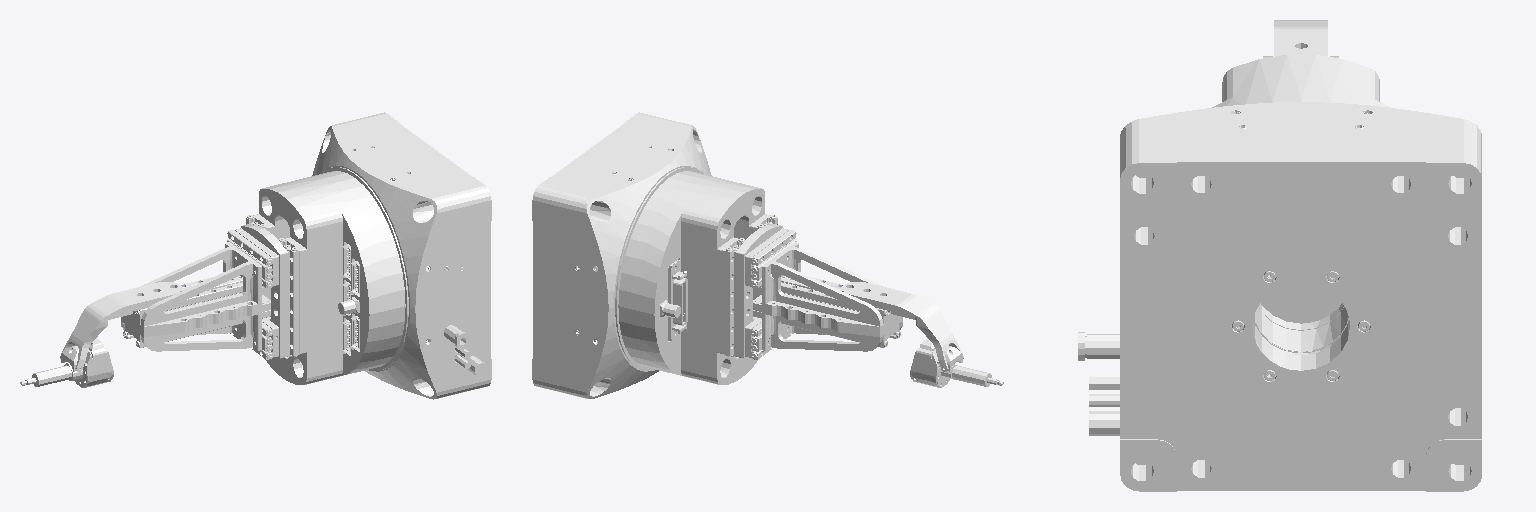
URDF robot description (SmarGon):
<?xml version="1.0"?>
<robot name="SmarGon">

  <material name="blue">
    <color rgba="0 0 0.8 1"/>
  </material>

  <material name="white">
    <color rgba="1 1 1 1"/>
  </material>

  <material name="grey">
    <color rgba="0.1 0.1 0.1 1"/>
  </material>


  <link name="base_link">
    <visual>
      <geometry>
        <!--<cylinder length="0.03" radius="0.10"/>-->
        <!--<mesh filename="package://smargon_support/meshes/visual/BASE_SUPPORT.stl"/>-->
        <mesh filename="package://smargon_support/meshes/visual/BL10S.stl"/>
      </geometry>
      <material name="white"/>
      <origin rpy="0 0 0" xyz="0 0 0" />
    </visual>
  </link>

 <link name="base_link_rotated">
    <visual>
      <geometry>
        <mesh filename="package://smargon_support/meshes/visual/BASE_SUPPORT.stl"/>
      </geometry>
      <material name="white"/>
      <origin rpy="0 -1.5708 0" xyz="0 0 0" />
    </visual>
  </link>

<joint name="reorient" type="fixed">
  <axis xyz="0 1 0"/>
  <parent link="base_link"/>
  <child link="base_link_rotated"/>
  <origin  rpy="0 -1.5708 0" xyz="0 0 0" />
</joint>


  <link name="base_cylinder">
    <visual>
      <geometry>
        <!--<cylinder length="0.15" radius="0.055"/>-->
        <mesh filename="package://smargon_support/meshes/visual/BLUE.stl"/>
      </geometry>
      <material name="white"/>
      <origin rpy="0 -1.5708  0" xyz="0 0 0" />
    </visual>
  </link>

<joint name="axisomega" type="continuous">
  <axis xyz="0 0 1"/>
  <parent link="base_link_rotated"/>
  <child link="base_cylinder"/>
  <origin xyz="0 0 0.0485" />
</joint>

  <link name="betweenxy_plate">
    <visual>
      <geometry>
        <!--<box size="0.06 0.04 0.015"/>-->
        <mesh filename="package://smargon_support/meshes/visual/GREEN.stl"/>
      </geometry>
      <material name="white"/>
      <origin rpy="0 -1.5708 0" xyz="0 0 0" />
    </visual>
  </link>

<joint name="axis1" type="prismatic">
  <axis xyz="1 0 0"/>
  <limit effort="1000.0" lower="-0.02" upper="0.02" velocity="0.5"/>
  <parent link="base_cylinder"/>
  <child link="betweenxy_plate"/>
  <origin xyz="0 0 0.05" />
</joint>

  <link name="t_plate">
    <visual>
      <geometry>
        <!--<box size="0.015 0.024 0.075"/>-->
        <mesh filename="package://smargon_support/meshes/visual/RED.stl"/>
      </geometry>
      <material name="white"/>
      <origin rpy="0 -1.5708 0" xyz="0 0 0" />
    </visual>
  </link>

<joint name="axis2" type="prismatic">
  <axis xyz="0 1 0"/>
  <limit effort="1000.0" lower="-0.01" upper="0.01" velocity="0.5"/>
   <parent link="betweenxy_plate"/>
  <child link="t_plate"/>
  <origin xyz="0 0 0.0135" />
</joint>

  <link name="swingholder">
    <visual>
      <geometry>
        <!--<box size="0.02 0.024 0.06"/>-->
        <mesh filename="package://smargon_support/meshes/visual/ORANGE.stl"/>
      </geometry>
      <material name="white"/>
      <origin rpy="0 -1.5708 0" xyz="0 0 0" />
    </visual>
  </link>

<joint name="axis3" type="prismatic">
  <axis xyz="0 0 1"/>
  <limit effort="1000.0" lower="-0.02" upper="0.02" velocity="0.5"/>
   <parent link="t_plate"/>
  <child link="swingholder"/>
  <origin xyz="0.009 0 0.031" />
</joint>

  <link name="swing">
    <visual>
      <geometry>
        <!--<cylinder length="0.012" radius="0.01"/>-->
        <mesh filename="package://smargon_support/meshes/visual/YELLOW.stl"/>
      </geometry>
      <material name="white"/>
      <origin rpy="0 -2.3562 0" xyz="0 0 0" />
    </visual>
  </link>

<joint name="axistheta" type="revolute">
  <axis xyz="0 1 0"/>
  <limit effort="1000.0" lower="0" upper="1.57" velocity="0.5"/>
   <parent link="swingholder"/>
  <child link="swing"/>
  <origin xyz="-0.023 0 0.0765" />
</joint>

  <link name="magnet">
    <visual>
      <geometry>
        <!--<cylinder length="0.012" radius="0.005"/>-->
        <mesh filename="package://smargon_support/meshes/visual/PINK.stl"/>
      </geometry>
      <material name="white"/>
      <origin rpy="0 -2.3562 0" xyz="0 0 0" />
    </visual>
  </link>

<joint name="axisphi" type="revolute">
  <axis xyz="0 0 1"/>
  <limit effort="1000.0" lower="-6.28" upper="6.28" velocity="0.5"/>
  <parent link="swing"/>
  <child link="magnet"/>
  <origin xyz="-0.005 0 -0.00627" />
</joint>




</robot>

--- Facts derived from the render (not from the file) ---
Views: 3 orthographic renders of the robot side by side, from view 1: azimuth 30°, elevation 25°; view 2: azimuth 150°, elevation 25°; view 3: azimuth 270°, elevation 25°.
Model SmarGon with 8 links and 7 joints (2 revolute, 1 continuous, 3 prismatic, 1 fixed), rooted at base_link, posed all joints at 0.
Links seen in each view (by area): view 1: base_link_rotated, base_cylinder, t_plate, betweenxy_plate, swingholder, swing, magnet; view 2: base_link_rotated, base_cylinder, t_plate, betweenxy_plate, swingholder, swing, magnet; view 3: base_link_rotated, base_cylinder, swingholder.
Link boxes in pixels (bbox=[...]): base_link_rotated: bbox=[312, 112, 491, 399]; base_cylinder: bbox=[246, 171, 405, 384]; t_plate: bbox=[121, 239, 272, 351]; betweenxy_plate: bbox=[227, 222, 291, 359]; swingholder: bbox=[60, 276, 242, 371]; swing: bbox=[61, 338, 113, 387]; magnet: bbox=[20, 362, 86, 386]; base_link_rotated: bbox=[532, 112, 711, 398]; base_cylinder: bbox=[618, 171, 777, 384]; t_plate: bbox=[751, 239, 902, 351]; betweenxy_plate: bbox=[732, 222, 796, 359]; swingholder: bbox=[781, 276, 963, 371]; swing: bbox=[910, 338, 962, 387]; magnet: bbox=[937, 364, 1003, 386]; base_link_rotated: bbox=[1078, 102, 1481, 491]; base_cylinder: bbox=[1212, 55, 1390, 323]; swingholder: bbox=[1274, 20, 1327, 56].
Bounding box of the posed robot: 0.2501 × 0.1285 × 0.115 m (x, y, z).
Meshes: 8 distinct files referenced, 7 mesh visuals loaded (7 binary STL); not drawn: 1 (reference not matched to a file when rendering).
